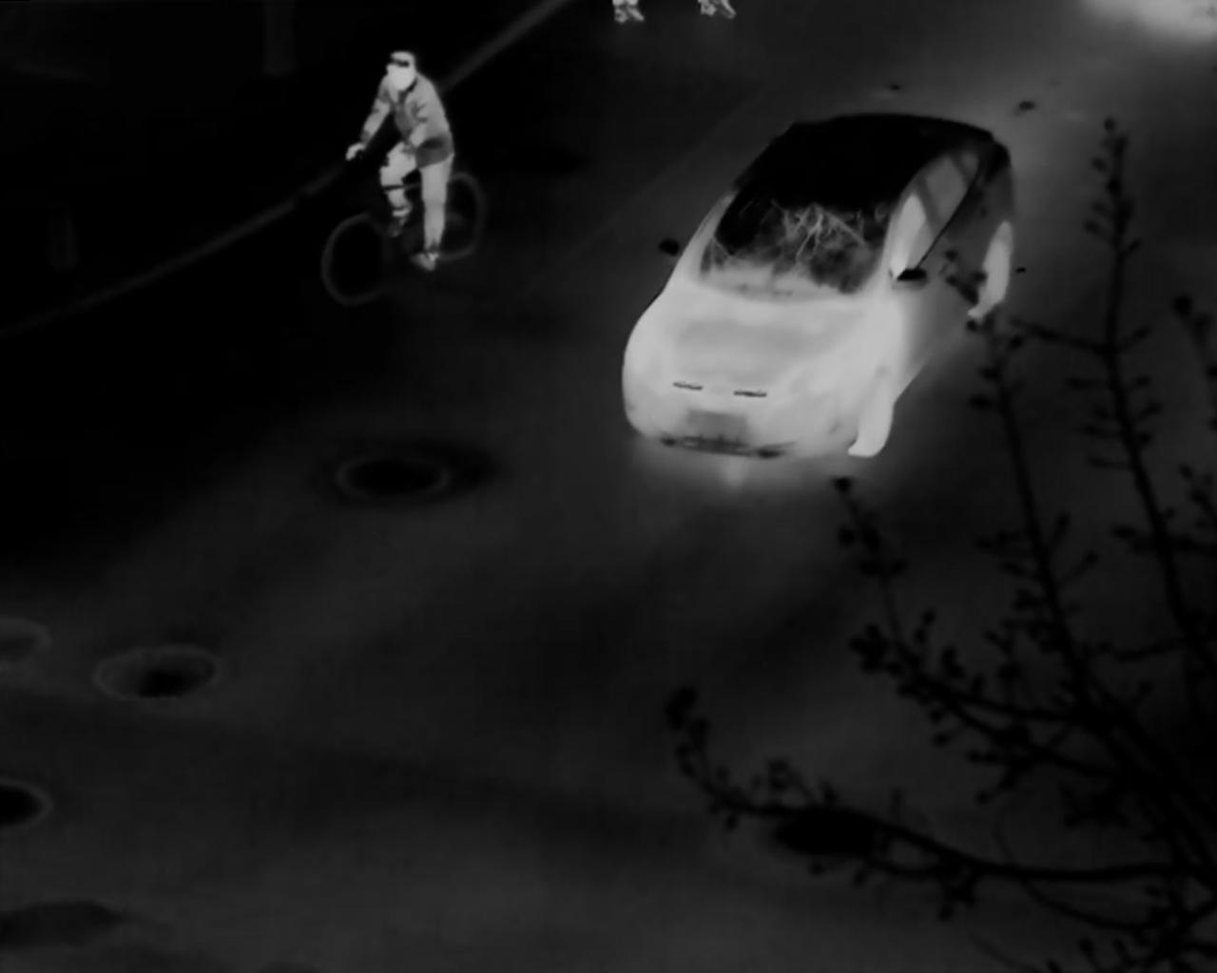person: (344, 53, 455, 273)
